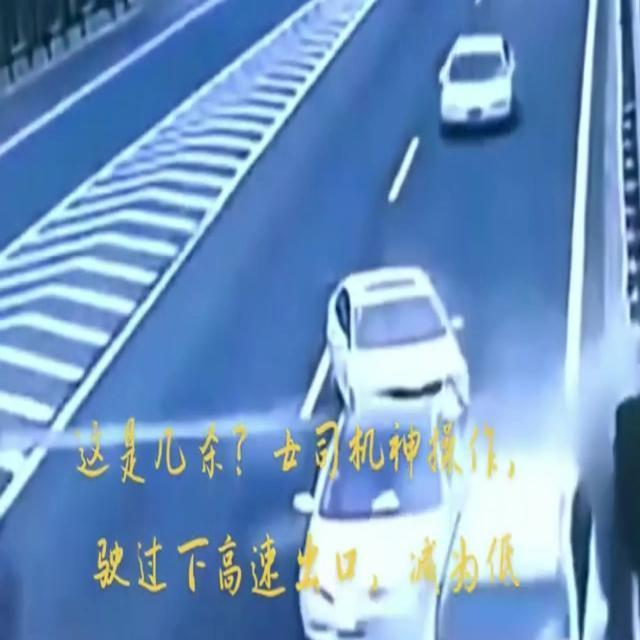accident: (300, 272, 468, 640)
